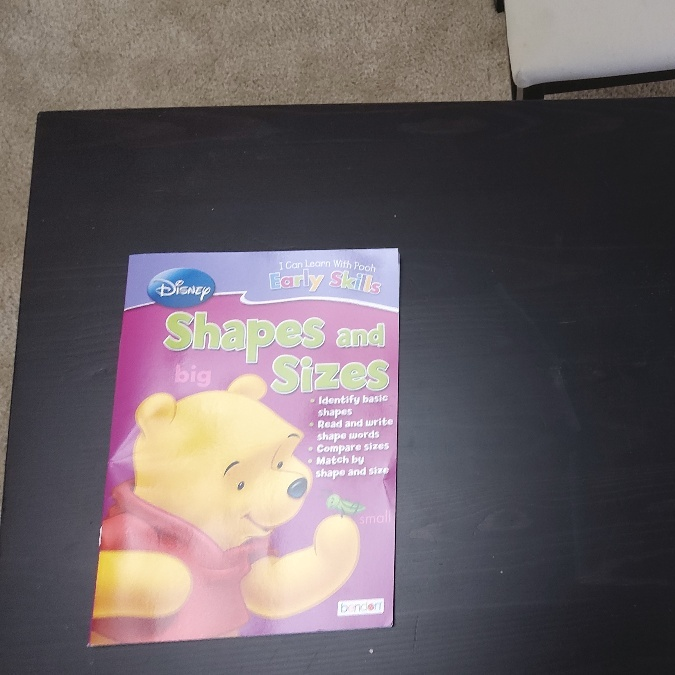book: (97, 248, 402, 635)
